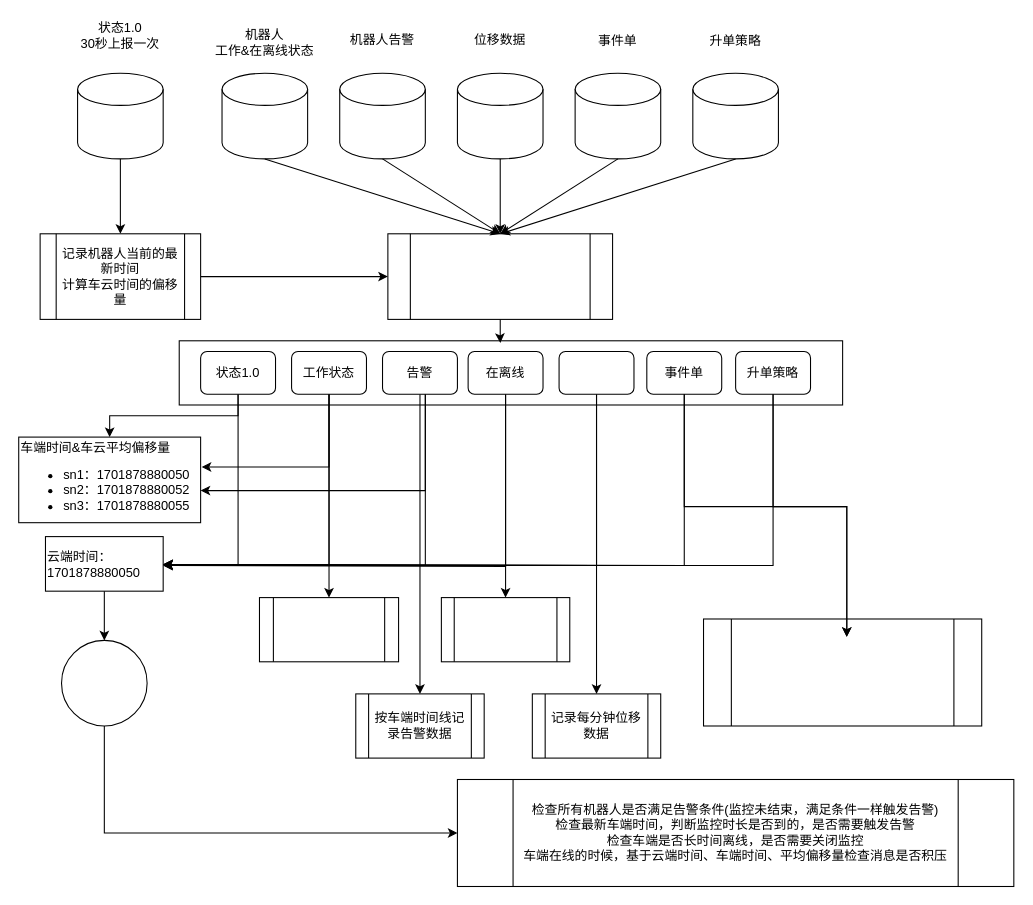
The diagram is 1033 pixels wide and 905 high, and some of its shapes have lost their labels. Each missing label, with the centre of its shape:
"位移" goes at point 596,372.
"按车端时间线记录工作状态 更新在离线：在线" goes at point 328,629.
"数据合并，按云短时间排序 避免上游各个数据源因为数据量级不同的倾斜问题而导致统计错误" goes at point 500,276.
"更新在离线状态" goes at point 505,629.
"每分钟触发轮询任务" goes at point 103,682.
"监听 系统关单+策略关单+策略不生单 触发监控 监控开始时间：最近的一次车端时间 监控结束时间：开始时间+监控时长" goes at point 842,672.
